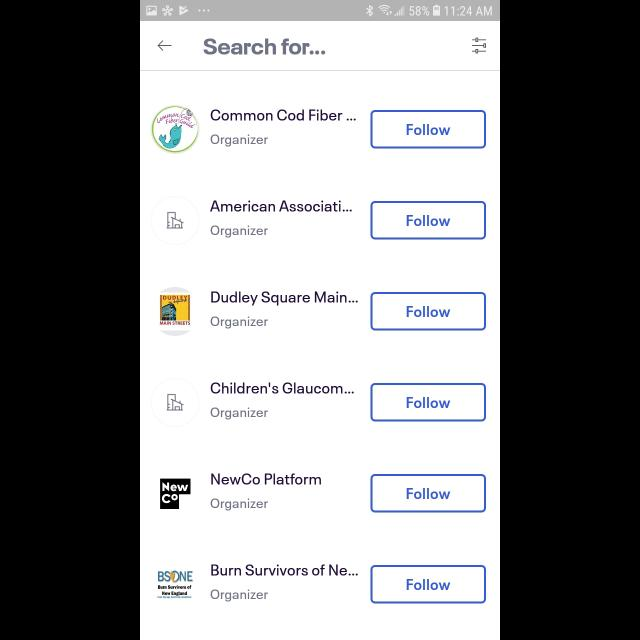icon: (472, 38, 486, 54), (158, 40, 172, 51)
image: (152, 379, 200, 427), (152, 197, 200, 245), (152, 106, 200, 154), (160, 287, 192, 337), (158, 570, 194, 598), (160, 478, 192, 509)
text: (210, 290, 358, 306), (203, 39, 325, 55), (212, 564, 358, 576), (210, 110, 356, 122), (210, 382, 354, 394), (210, 200, 352, 212), (211, 473, 321, 485), (211, 590, 269, 602), (211, 498, 269, 510), (211, 408, 269, 420), (211, 226, 269, 238), (211, 134, 269, 146), (212, 317, 268, 329)
textbutton: (370, 564, 486, 604), (370, 474, 486, 514), (370, 382, 486, 422), (370, 292, 486, 332), (370, 200, 486, 240), (370, 110, 486, 150)
uppertaskbar: (140, 1, 500, 22)
